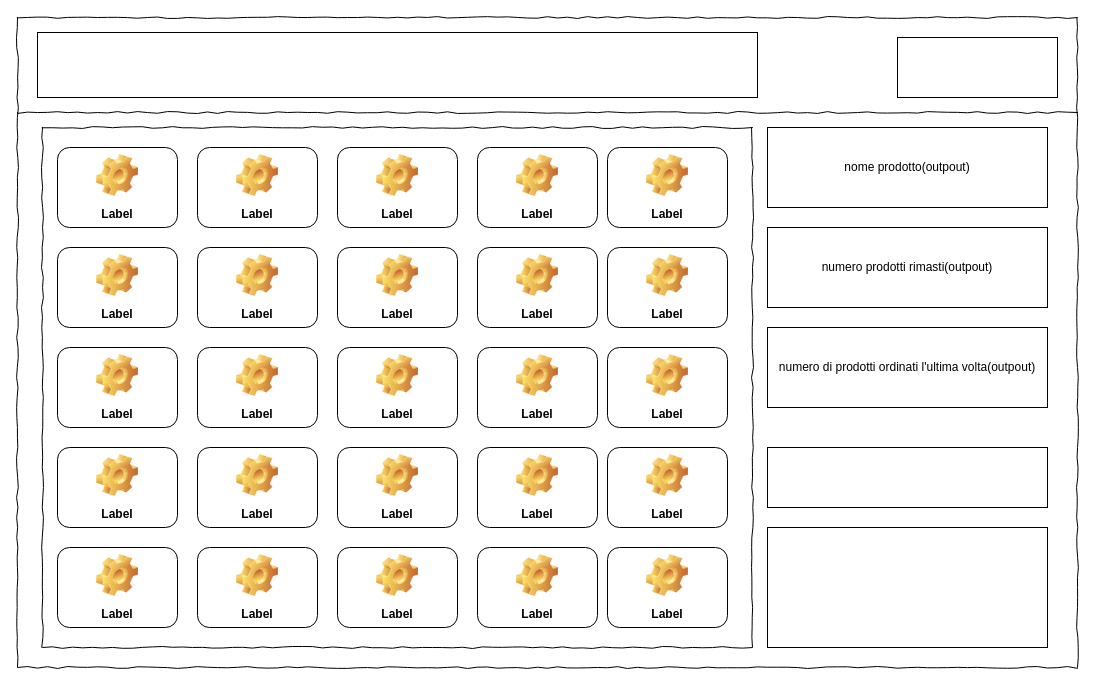
Image size: 1095x685. Some labels were removed from this diagram. Here are the shapes that lost their labels. From the top down, the centre of each, then its label:
At (397,65): "Magazino".
At (977,67): "INDIETRO".
At (907,477): "quantità da ordinare(input)".
At (907,587): "Ordina".
